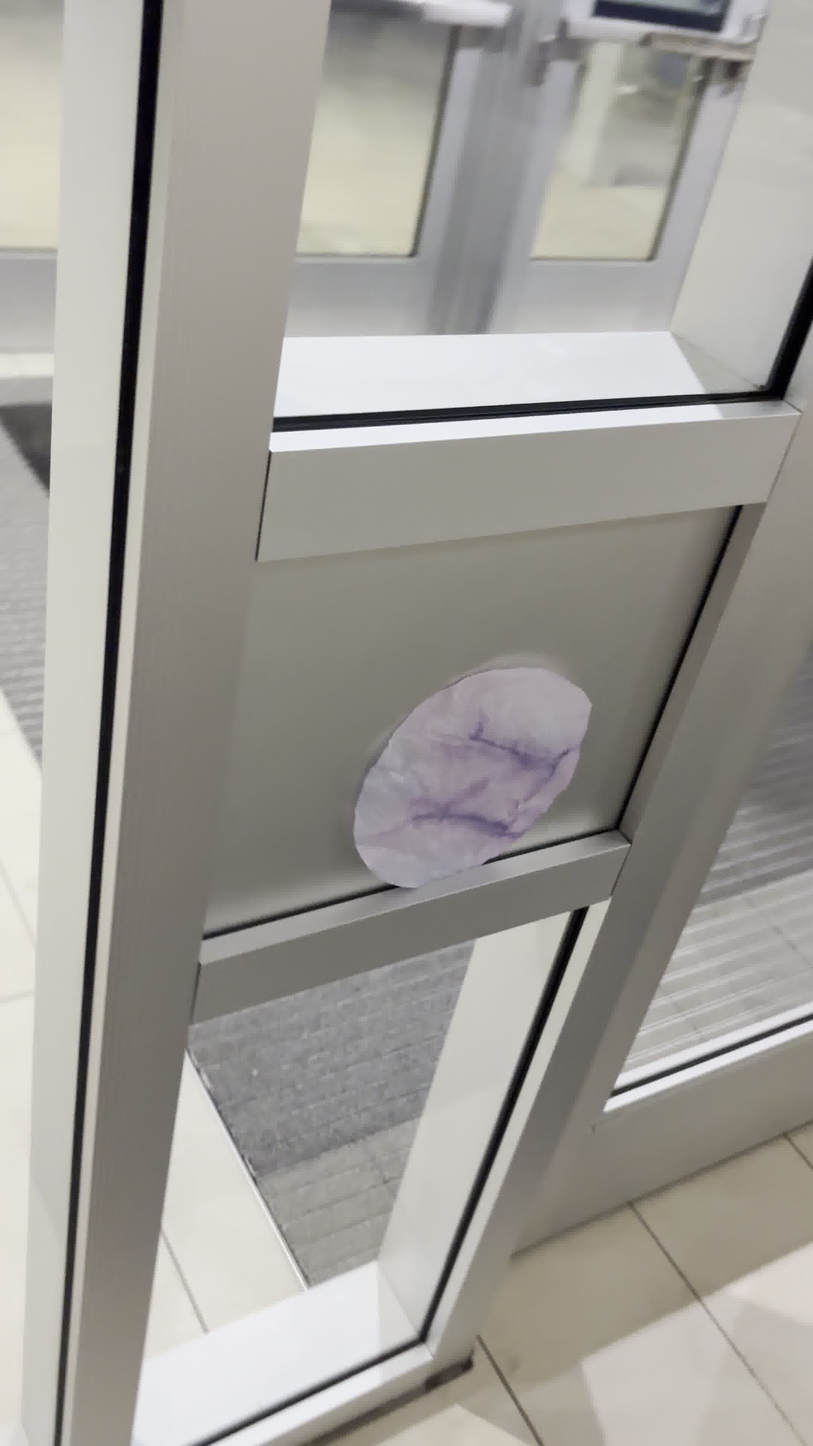Target: (349, 666, 596, 892)
